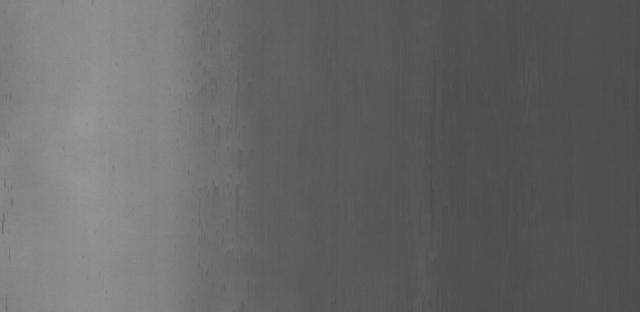silk_spot: (176, 49, 272, 285)
